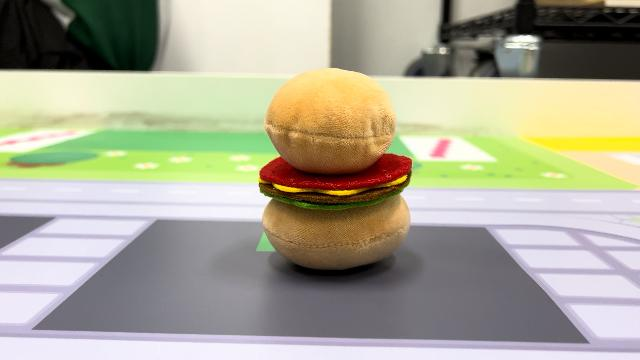burger: (254, 64, 416, 272)
